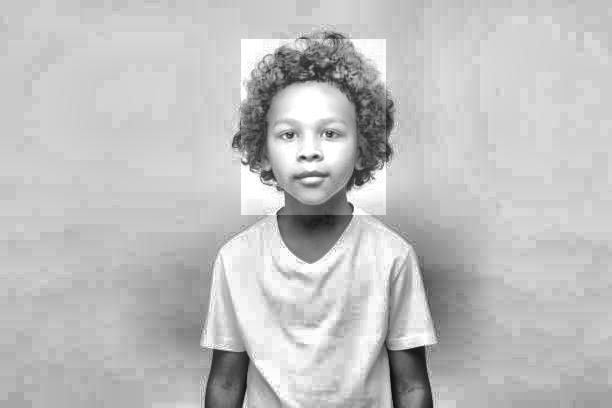sad: (242, 40, 387, 216)
